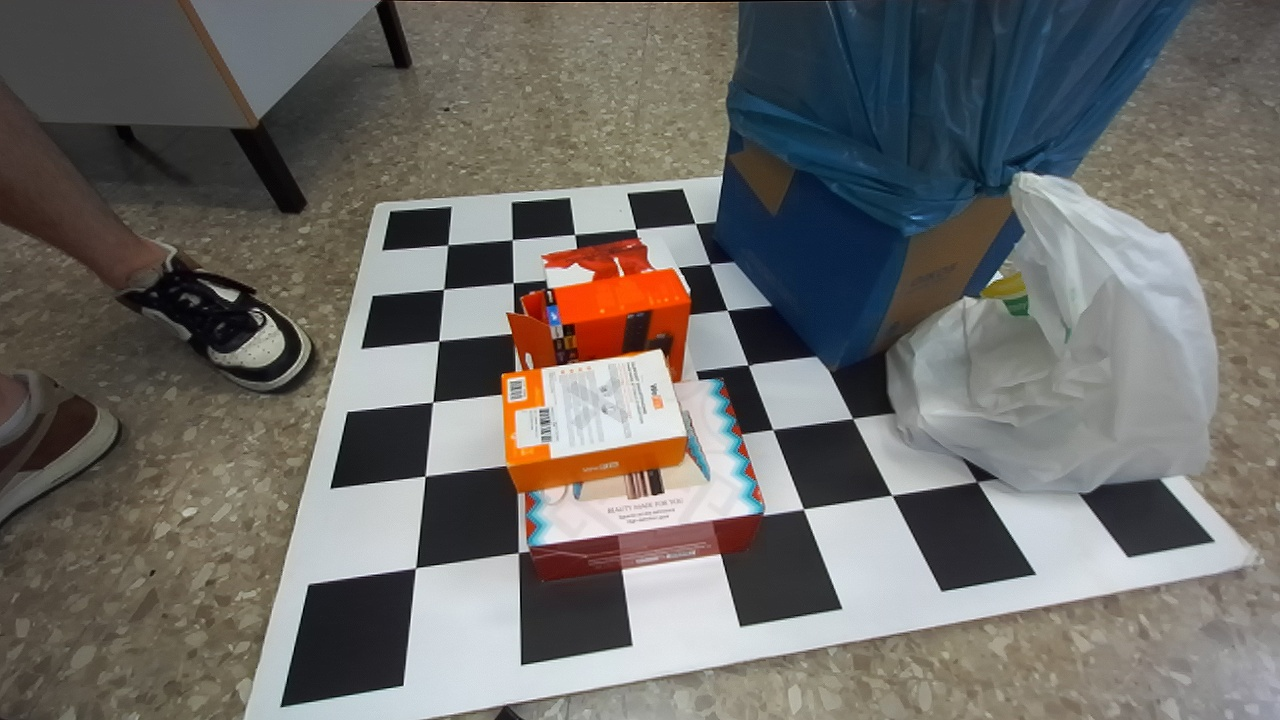caja_busbar: (524, 379, 764, 579)
caja_manguera: (508, 268, 690, 383)
caja_pcb: (503, 350, 686, 492)
caja_potencia: (540, 236, 691, 291)
